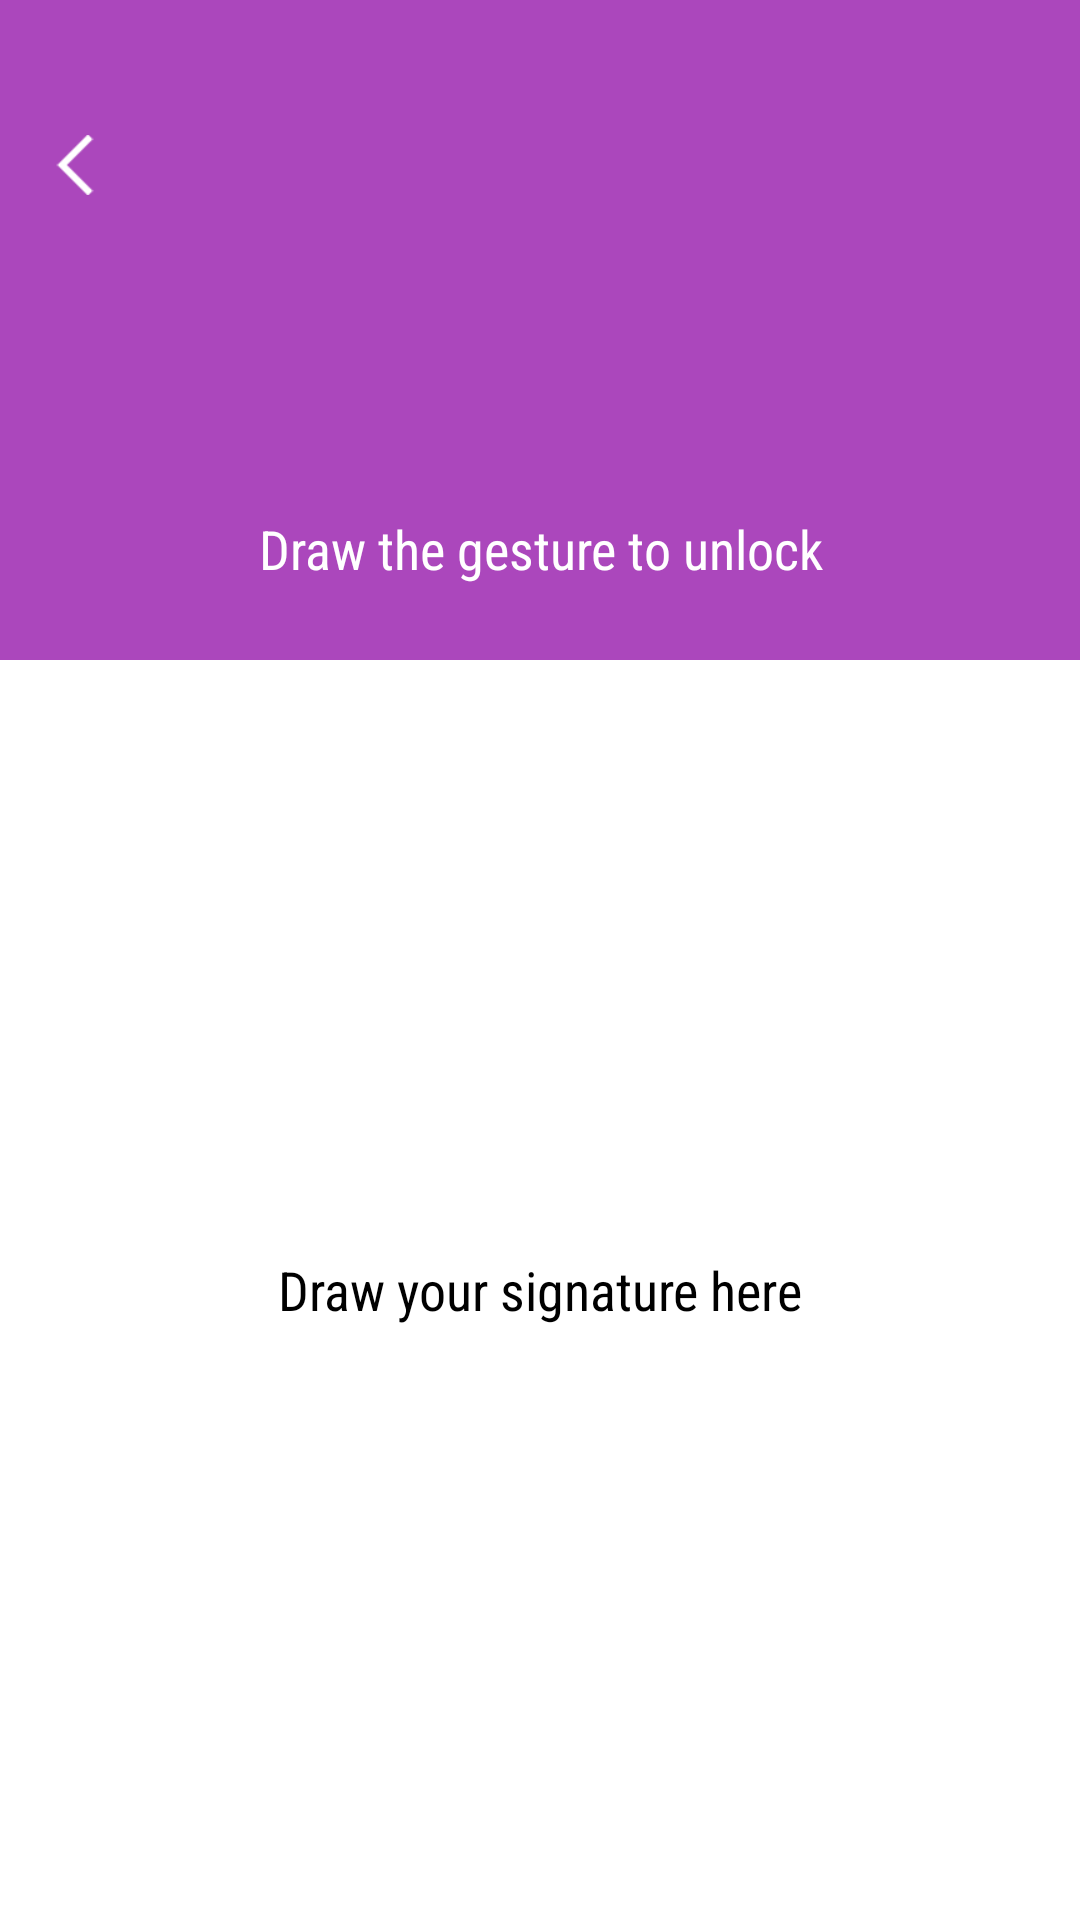

Icons on this 1080w x 1920h Android screen, each with its box as (x1, y1, x2, y2):
title arrow: (57, 135, 94, 195)
